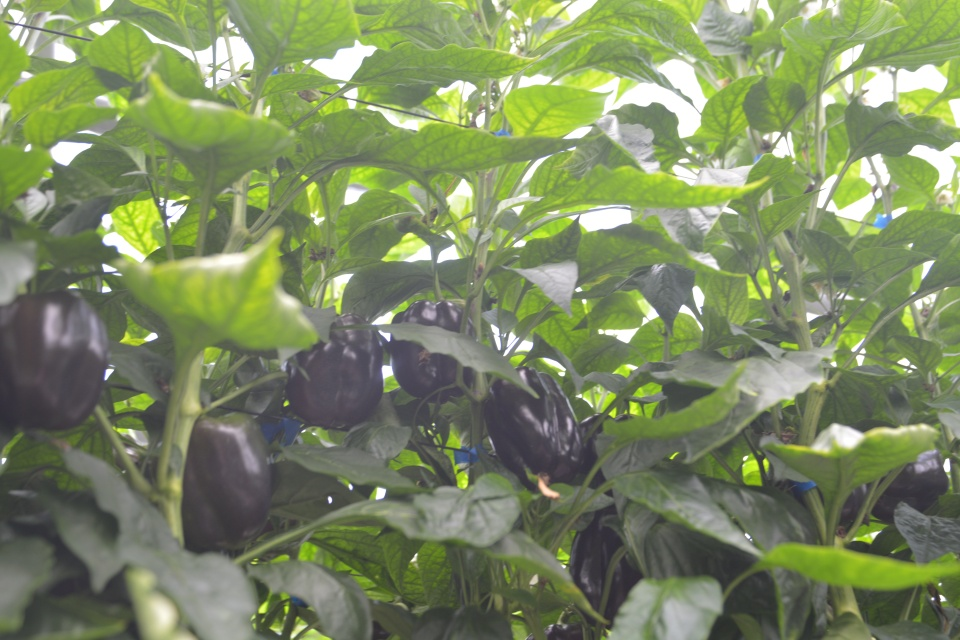fruit: (152, 411, 274, 555), (0, 288, 109, 433), (283, 312, 385, 432), (483, 373, 583, 492), (566, 490, 644, 628), (389, 297, 476, 404), (866, 448, 951, 524), (577, 410, 637, 500)
